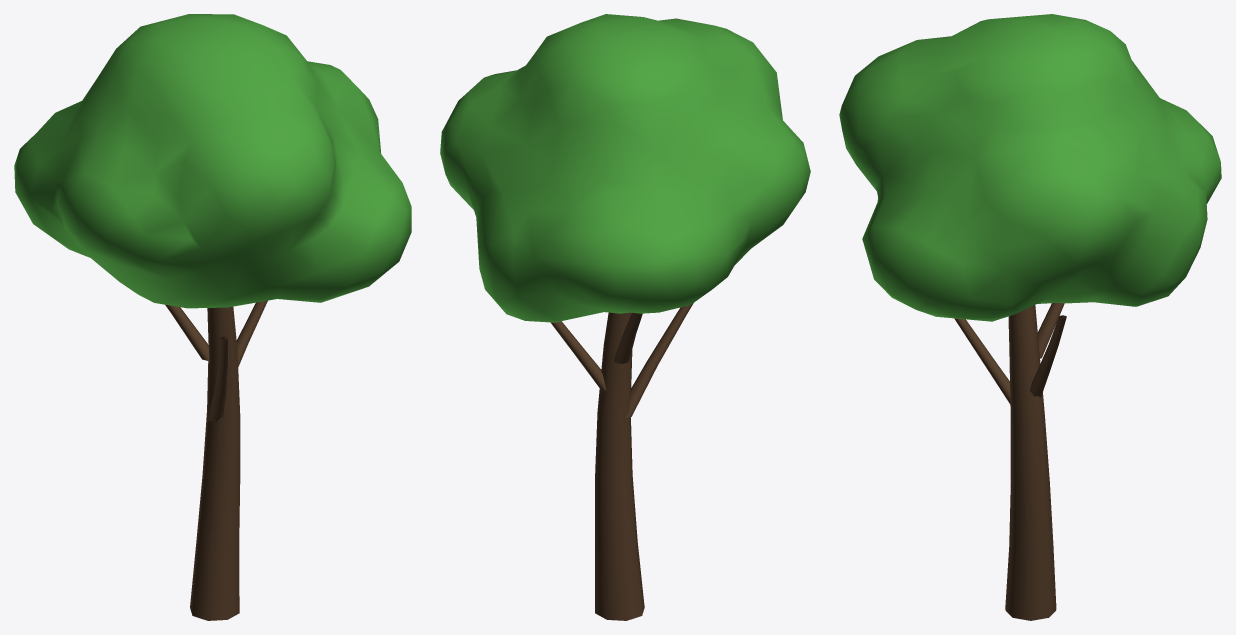
Rendered from tree_broadleaf.glb.
3 views of the same model, side by side, from view 1: azimuth 30°, elevation 25°; view 2: azimuth 150°, elevation 25°; view 3: azimuth 270°, elevation 25° (orthographic).
Parts seen in each view (by area): view 1: tree_broadleaf; view 2: tree_broadleaf; view 3: tree_broadleaf.
Part boxes in pixels (x1=…): tree_broadleaf: x1=14, y1=14, x2=411, y2=620; tree_broadleaf: x1=440, y1=14, x2=810, y2=620; tree_broadleaf: x1=839, y1=14, x2=1221, y2=620.
Bounding box in the file's own units: 3.42 × 6 × 3.58.
